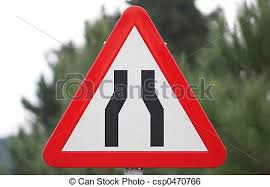Narrow_road: (39, 6, 231, 170)
